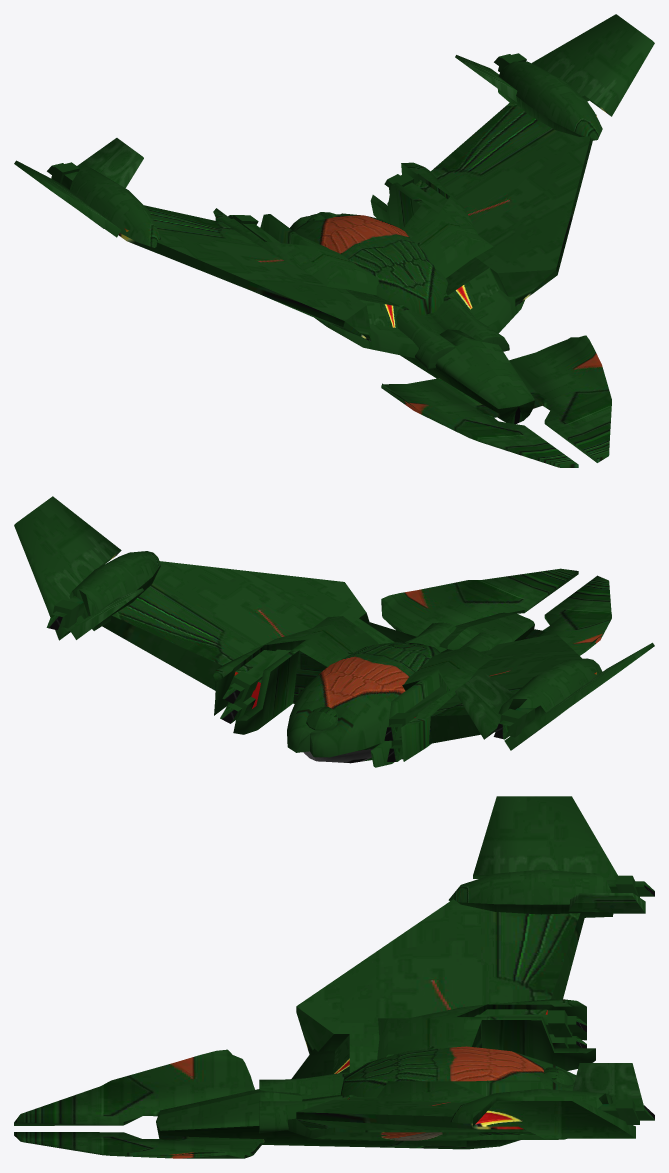
The model's file is Kling_KTar.fbx.
The picture shows the model from 3 angles, top to bottom: view 1: azimuth 30°, elevation 25°; view 2: azimuth 150°, elevation 25°; view 3: azimuth 270°, elevation 25°; orthographic projection. The views are drawn at different scales.
Visible parts, largest first — view 1: Kling_KTar; view 2: Kling_KTar; view 3: Kling_KTar.
Boxes of the visible parts, left/top/right/bottom form: Kling_KTar: left=14, top=14, right=654, bottom=467; Kling_KTar: left=14, top=496, right=654, bottom=767; Kling_KTar: left=14, top=796, right=654, bottom=1158.
Bounding box in the file's own units: 98.55 × 29.59 × 88.17.
Materials: 1 (1 with a texture image).
